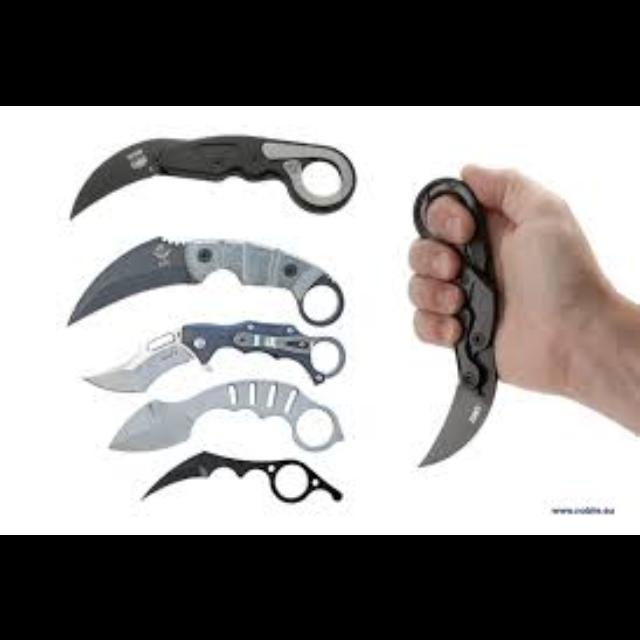knife: (398, 156, 640, 488), (412, 174, 590, 388), (65, 233, 342, 324), (68, 131, 354, 219), (411, 176, 497, 467), (80, 318, 346, 392), (108, 378, 342, 450), (137, 448, 340, 502)
